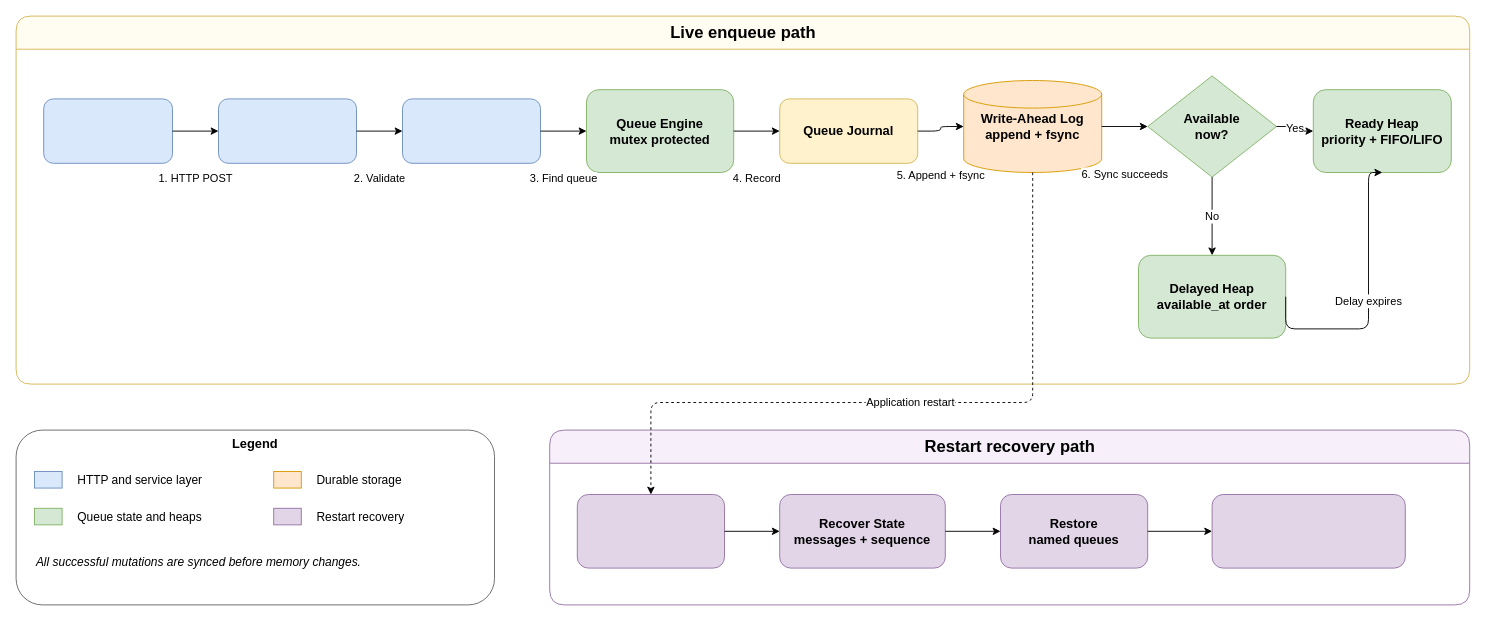
Image size: 1486x621. Some labels were removed from this diagram. The centre of each missing label's shape, as x and y in pixels:
CLI Client: the point at 107,130
HTTP Handler: the point at 287,130
Queue Manager: the point at 471,130
Rebuilt Ready and Delayed Heaps: the point at 1308,531
Replay WAL records: the point at 650,531
